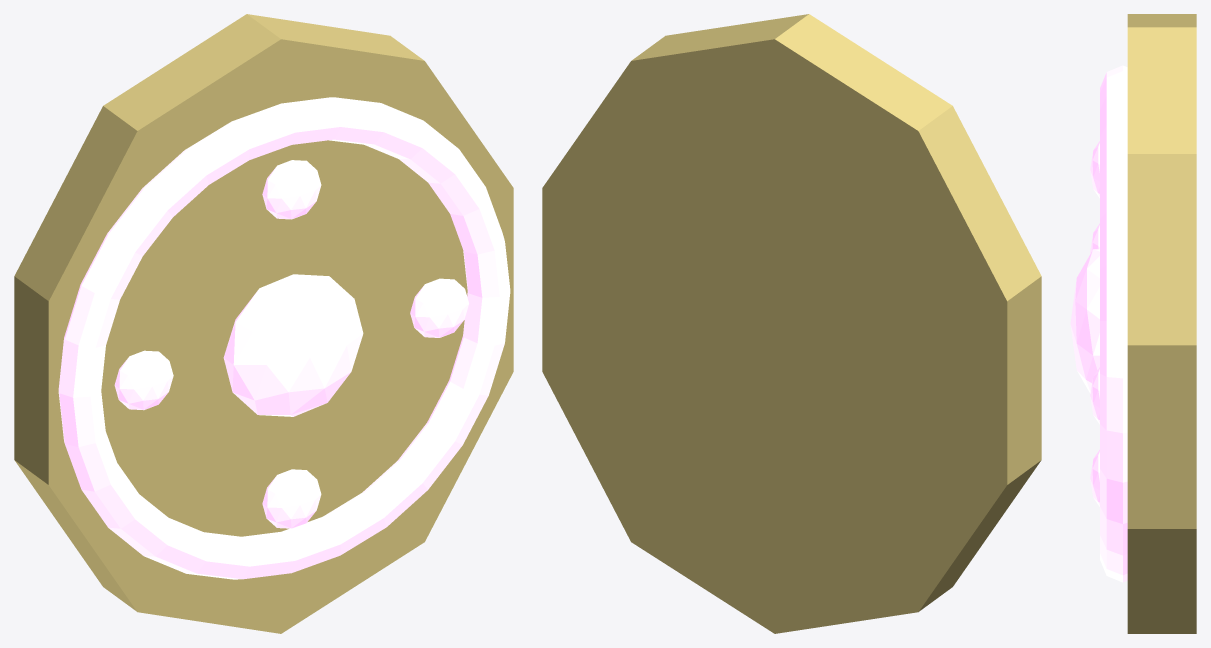
The model's file is aegis-of-dawn.glb.
The picture shows the model from 3 angles, left to right: view 1: azimuth 30°, elevation 25°; view 2: azimuth 150°, elevation 25°; view 3: azimuth 270°, elevation 25°; orthographic projection.
Visible parts, largest first — view 1: ShieldBody, ShieldRim, ShieldBoss, ShieldRay_1.5707963267948966, ShieldRay_4.71238898038469, ShieldRay_0, ShieldRay_3.141592653589793; view 2: ShieldBody; view 3: ShieldBody, ShieldRim, ShieldBoss, ShieldRay_1.5707963267948966, ShieldRay_4.71238898038469, ShieldRay_0.
Boxes of the visible parts, bbox=[...] form: ShieldBody: bbox=[14, 14, 513, 633]; ShieldRim: bbox=[58, 97, 510, 579]; ShieldBoss: bbox=[223, 274, 363, 416]; ShieldRay_1.5707963267948966: bbox=[262, 160, 321, 219]; ShieldRay_4.71238898038469: bbox=[262, 469, 321, 528]; ShieldRay_0: bbox=[410, 278, 468, 337]; ShieldRay_3.141592653589793: bbox=[114, 350, 173, 410]; ShieldBody: bbox=[542, 14, 1041, 633]; ShieldBody: bbox=[1127, 14, 1196, 633]; ShieldRim: bbox=[1100, 65, 1127, 582]; ShieldBoss: bbox=[1070, 249, 1099, 393]; ShieldRay_1.5707963267948966: bbox=[1090, 141, 1099, 198]; ShieldRay_4.71238898038469: bbox=[1090, 449, 1099, 506]; ShieldRay_0: bbox=[1090, 367, 1099, 424].
Size of the model in its own units: 1.64 by 2 by 0.385.
